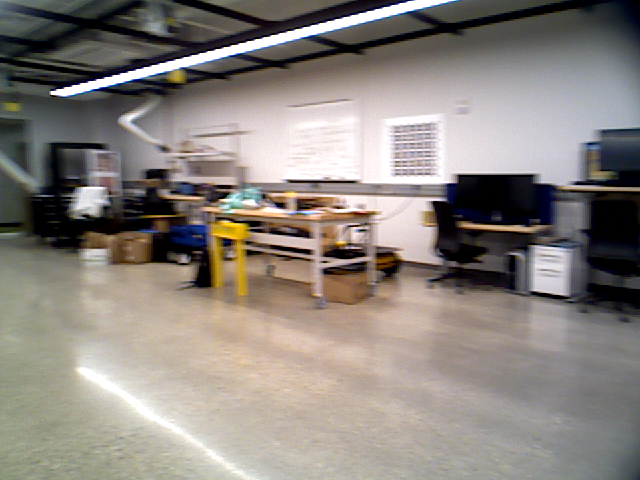painting4: (381, 116, 441, 181)
